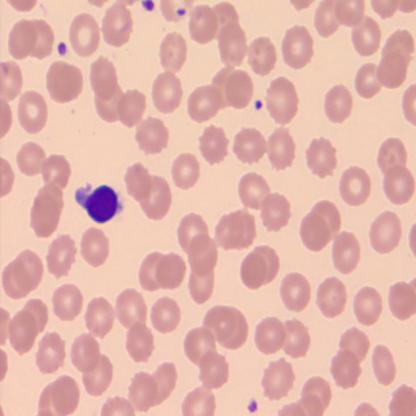Lymphocyte: (74, 180, 123, 226)
